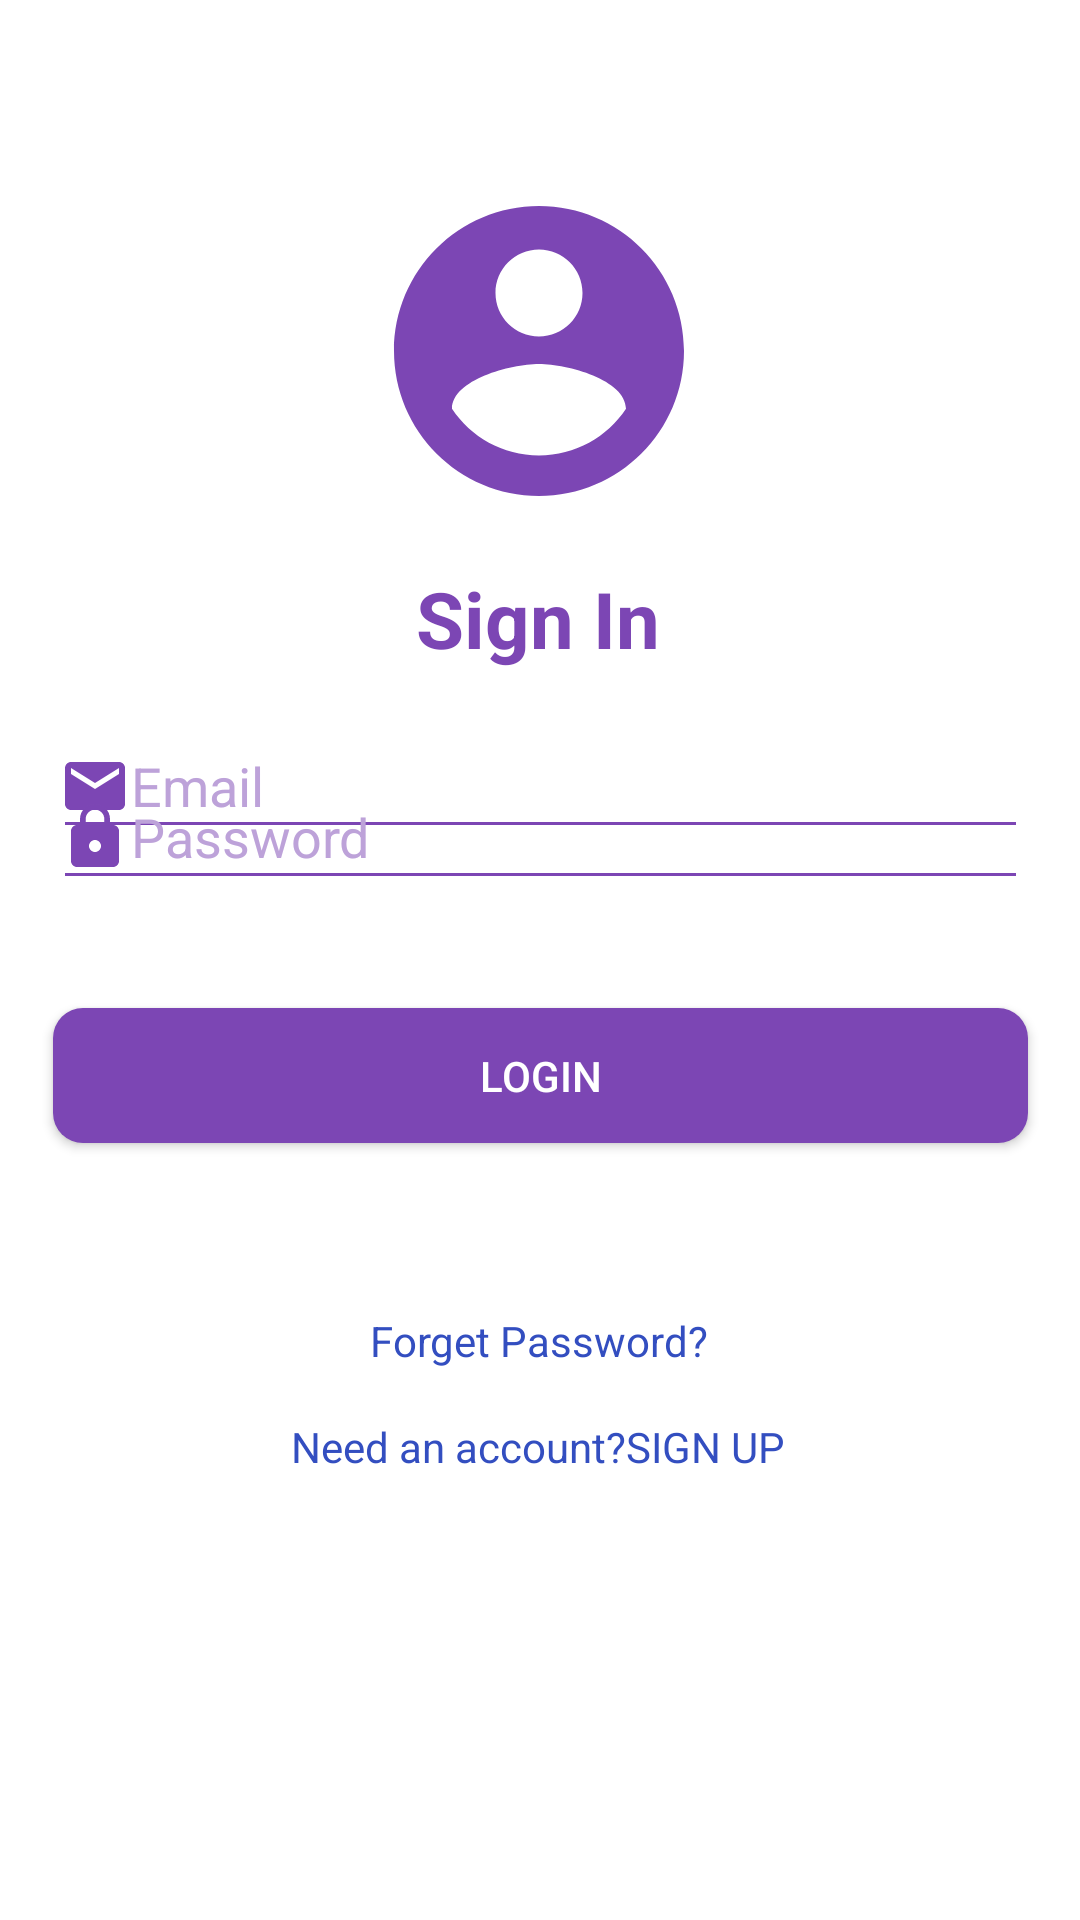

Point at icon controls on the screen. Image size 1080px×1920px, points as (x,y).
account circle: (539,351)
